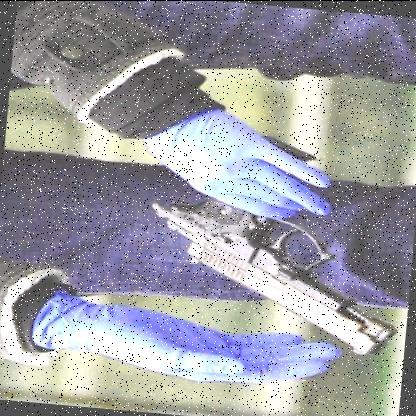rifle: (139, 131, 411, 366)
